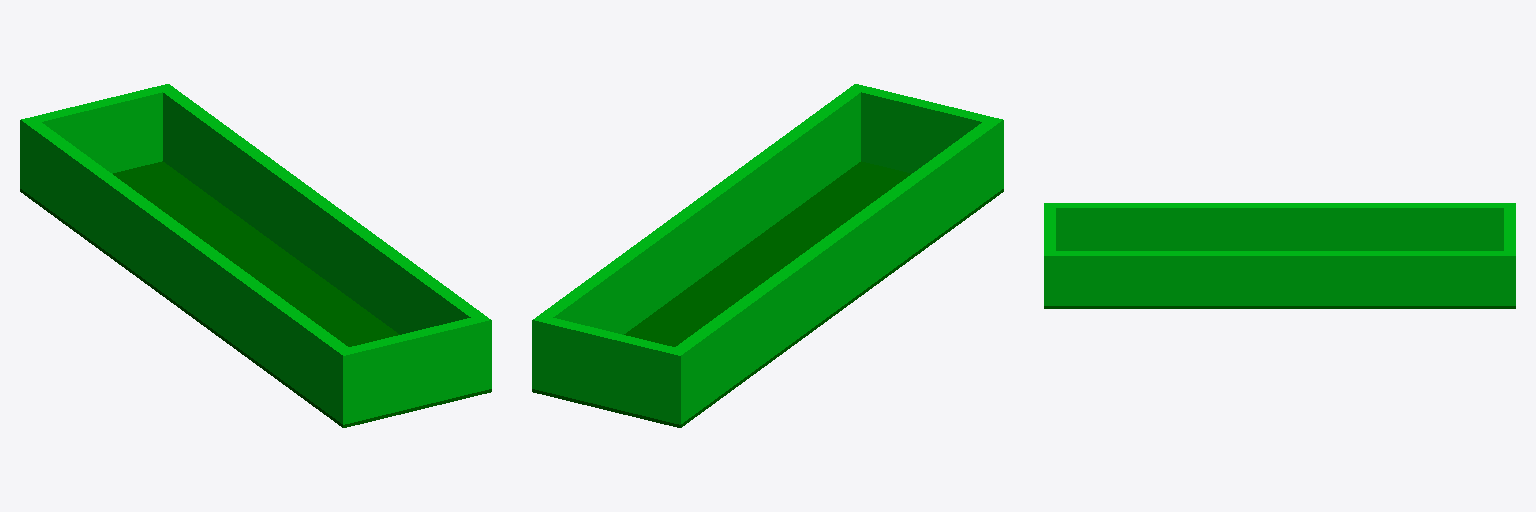
robot.urdf — arena:
<?xml version="1.0"?>
<robot name="arena">

  <link name="arena_base">
    <visual>
      <origin xyz="0 0 -0.005" rpy="0 0 0"/>
      <geometry>
        <box size="0.45 1.70 0.01"/>
      </geometry>
      <material name="arena_floor">
        <color rgba="0.0 0.45 0.0 1.0"/>
      </material>
    </visual>
  </link>

  <link name="wall_left">
    <visual>
      <origin xyz="0 0 0.10" rpy="0 0 0"/>
      <geometry>
        <box size="0.04 1.70 0.20"/>
      </geometry>
      <material name="arena_green">
        <color rgba="0.0 0.8 0.1 1.0"/>
      </material>
    </visual>
  </link>

  <joint name="wall_left_joint" type="fixed">
    <parent link="arena_base"/>
    <child link="wall_left"/>
    <origin xyz="-0.205 0 0" rpy="0 0 0"/>
  </joint>

  <link name="wall_right">
    <visual>
      <origin xyz="0 0 0.10" rpy="0 0 0"/>
      <geometry>
        <box size="0.04 1.70 0.20"/>
      </geometry>
      <material name="arena_green">
        <color rgba="0.0 0.8 0.1 1.0"/>
      </material>
    </visual>
  </link>

  <joint name="wall_right_joint" type="fixed">
    <parent link="arena_base"/>
    <child link="wall_right"/>
    <origin xyz="0.205 0 0" rpy="0 0 0"/>
  </joint>

  <link name="wall_top">
    <visual>
      <origin xyz="0 0 0.10" rpy="0 0 0"/>
      <geometry>
        <box size="0.45 0.04 0.20"/>
      </geometry>
      <material name="arena_green">
        <color rgba="0.0 0.8 0.1 1.0"/>
      </material>
    </visual>
  </link>

  <joint name="wall_top_joint" type="fixed">
    <parent link="arena_base"/>
    <child link="wall_top"/>
    <origin xyz="0 0.83 0" rpy="0 0 0"/>
  </joint>

  <link name="wall_bottom">
    <visual>
      <origin xyz="0 0 0.10" rpy="0 0 0"/>
      <geometry>
        <box size="0.45 0.04 0.20"/>
      </geometry>
      <material name="arena_green">
        <color rgba="0.0 0.8 0.1 1.0"/>
      </material>
    </visual>
  </link>

  <joint name="wall_bottom_joint" type="fixed">
    <parent link="arena_base"/>
    <child link="wall_bottom"/>
    <origin xyz="0 -0.83 0" rpy="0 0 0"/>
  </joint>

</robot>

--- Facts derived from the render (not from the file) ---
3 views of the same robot in one strip: view 1: azimuth 30°, elevation 25°; view 2: azimuth 150°, elevation 25°; view 3: azimuth 270°, elevation 25° (orthographic).
Model arena with 5 links and 4 joints (4 fixed), rooted at arena_base, posed every joint at zero.
Visible links, largest first — view 1: wall_left, wall_right, arena_base, wall_bottom, wall_top; view 2: wall_left, wall_right, arena_base, wall_top, wall_bottom; view 3: wall_right, wall_left, arena_base, wall_bottom, wall_top.
Link boxes in pixels (<box>): wall_left: <box>20,117,356,424</box>; wall_right: <box>156,84,491,391</box>; arena_base: <box>20,161,491,427</box>; wall_bottom: <box>336,315,491,424</box>; wall_top: <box>20,84,173,193</box>; wall_left: <box>667,117,1003,424</box>; wall_right: <box>532,84,867,391</box>; arena_base: <box>532,161,1003,427</box>; wall_top: <box>532,315,687,423</box>; wall_bottom: <box>849,84,1002,193</box>; wall_right: <box>1044,251,1515,305</box>; wall_left: <box>1044,203,1515,250</box>; arena_base: <box>1044,306,1515,308</box>; wall_bottom: <box>1044,203,1055,304</box>; wall_top: <box>1504,203,1515,305</box>.
Bounding box of the posed robot: 0.45 × 1.7 × 0.21 m (x, y, z).
Geometry: primitives only (box / cylinder / sphere), no mesh files.
